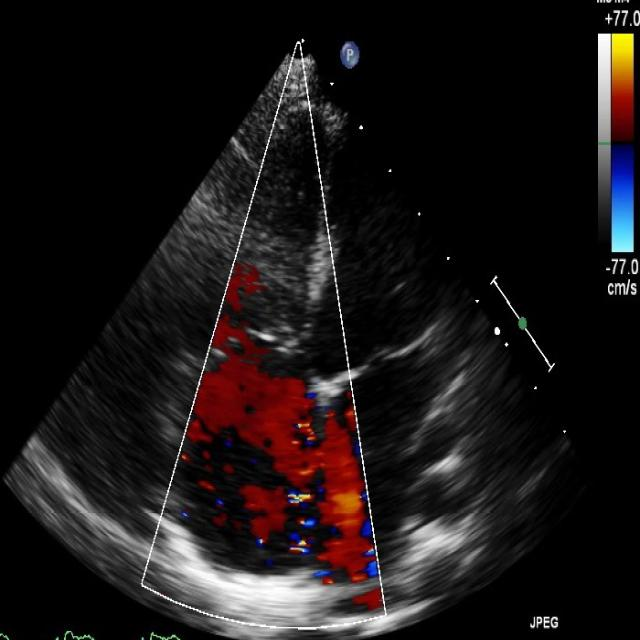ASDType2: (242, 374, 382, 616)
